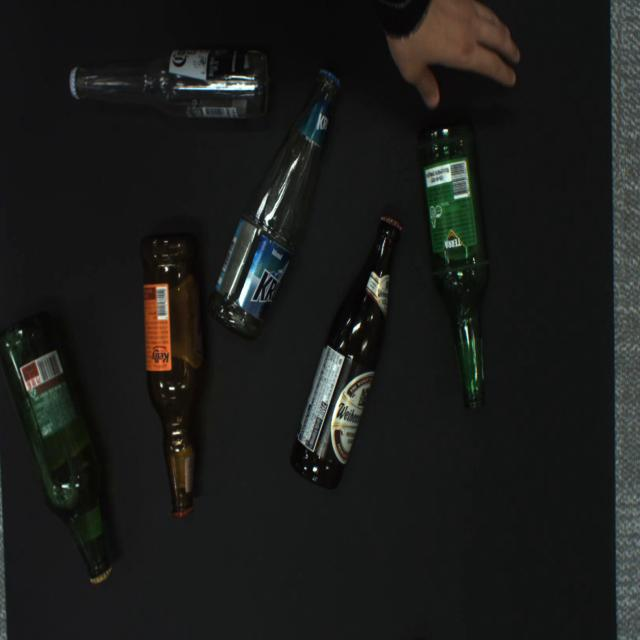beer-bottle: (208, 68, 341, 341), (290, 216, 403, 489), (0, 311, 112, 585), (416, 123, 490, 410), (140, 231, 205, 517), (69, 49, 269, 119)
